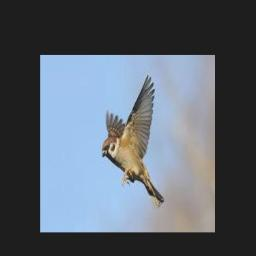Sparrow: (102, 75, 164, 210)
